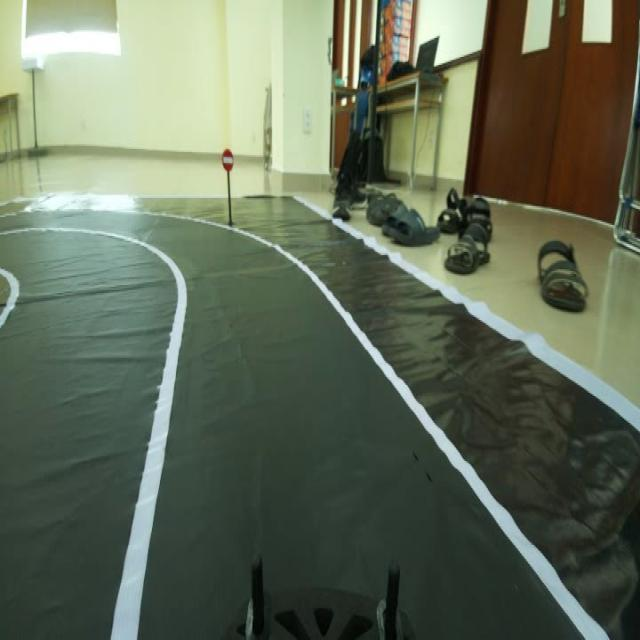no_entry: (216, 142, 237, 172)
